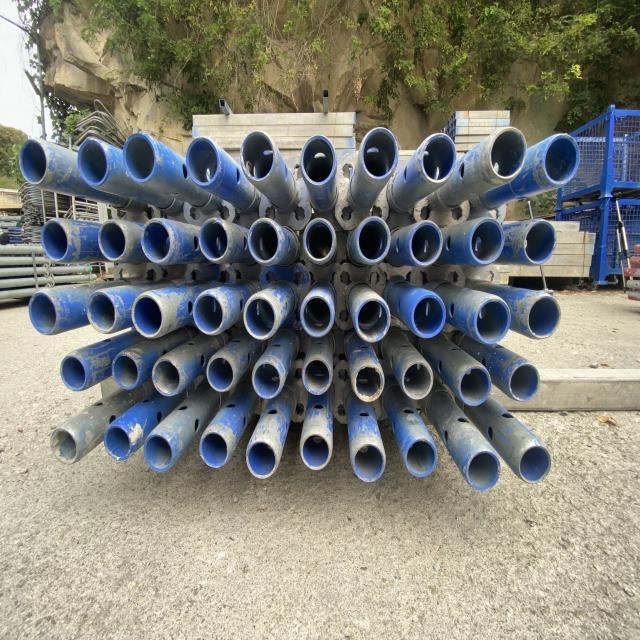pipe: (483, 129, 526, 190), (238, 127, 278, 190), (184, 138, 226, 196), (296, 137, 336, 196), (540, 130, 577, 192), (26, 283, 66, 340), (244, 218, 286, 272), (121, 130, 160, 188), (406, 292, 446, 348), (18, 134, 56, 190), (128, 290, 168, 343), (76, 135, 114, 190), (106, 350, 147, 400), (358, 127, 398, 177), (519, 218, 559, 268), (41, 218, 78, 272), (352, 293, 388, 347), (134, 220, 172, 271), (466, 214, 506, 262), (240, 296, 282, 340), (408, 220, 442, 274), (474, 300, 510, 351), (188, 292, 227, 339), (421, 138, 456, 190), (92, 218, 128, 268), (352, 222, 390, 268), (297, 296, 333, 344), (196, 222, 233, 268), (301, 218, 335, 268), (84, 284, 118, 333), (242, 438, 278, 484), (351, 437, 384, 487), (353, 361, 385, 412), (296, 431, 332, 476), (193, 424, 228, 470), (504, 365, 541, 408), (458, 366, 491, 414), (204, 355, 238, 401), (528, 298, 562, 344), (398, 360, 432, 406), (466, 451, 499, 498), (514, 440, 548, 484), (404, 434, 436, 480), (303, 356, 334, 402), (152, 358, 185, 401), (140, 430, 172, 474), (49, 420, 78, 468), (58, 354, 90, 393), (104, 422, 134, 462), (252, 359, 280, 401)
